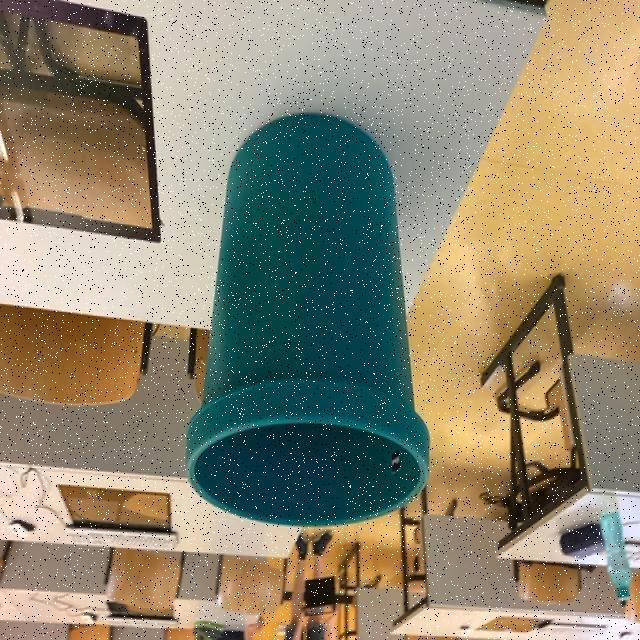garbage container: (165, 115, 468, 551)
